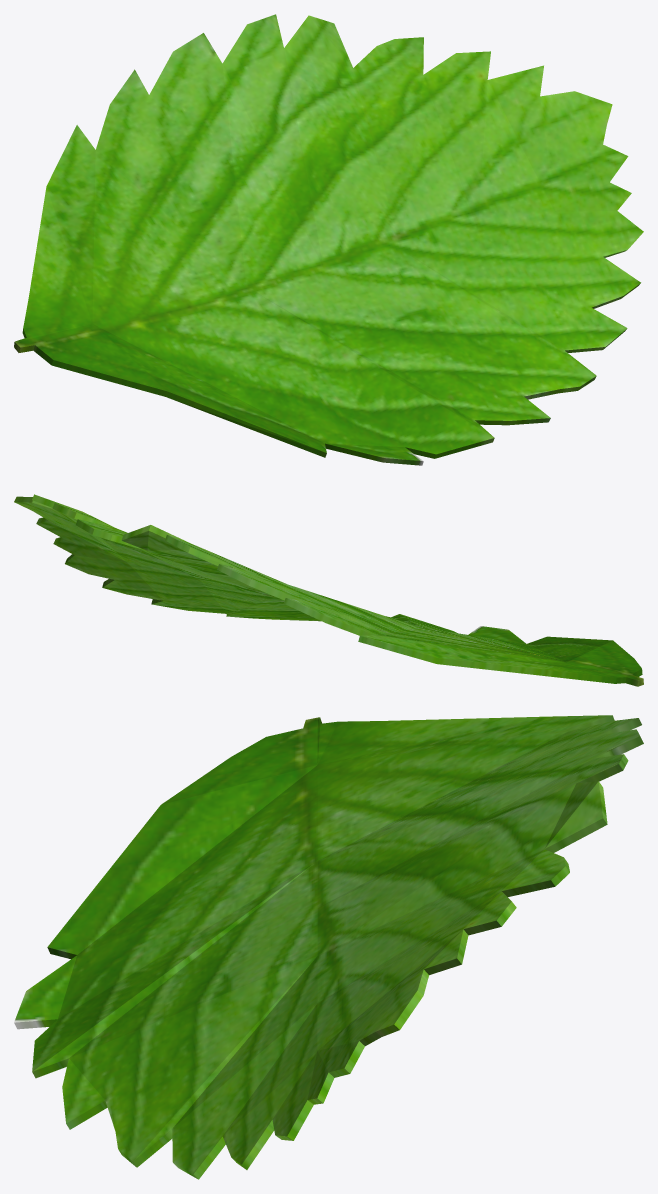
The model's file is leaf3.dae.
The picture shows the model from 3 angles, top to bottom: view 1: azimuth 30°, elevation 25°; view 2: azimuth 150°, elevation 25°; view 3: azimuth 270°, elevation 25°; orthographic projection. The views are drawn at different scales.
Parts seen in each view (by area): view 1: Plane; view 2: Plane; view 3: Plane.
Boxes of the visible parts, x1,y1,x2,y2 form: Plane: [14, 14, 643, 465]; Plane: [14, 494, 643, 686]; Plane: [14, 715, 643, 1179].
Bounding box in the file's own units: 0.1376 × 0.0946 × 0.055.
Materials: 1 (1 with a texture image).
